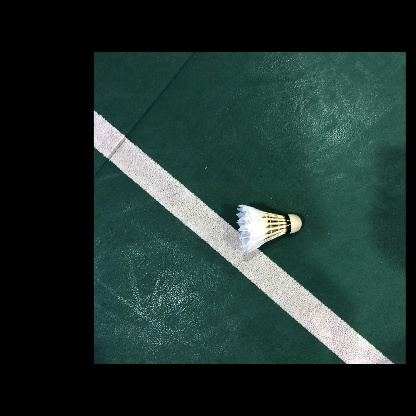ball_single: (236, 204, 302, 254)
